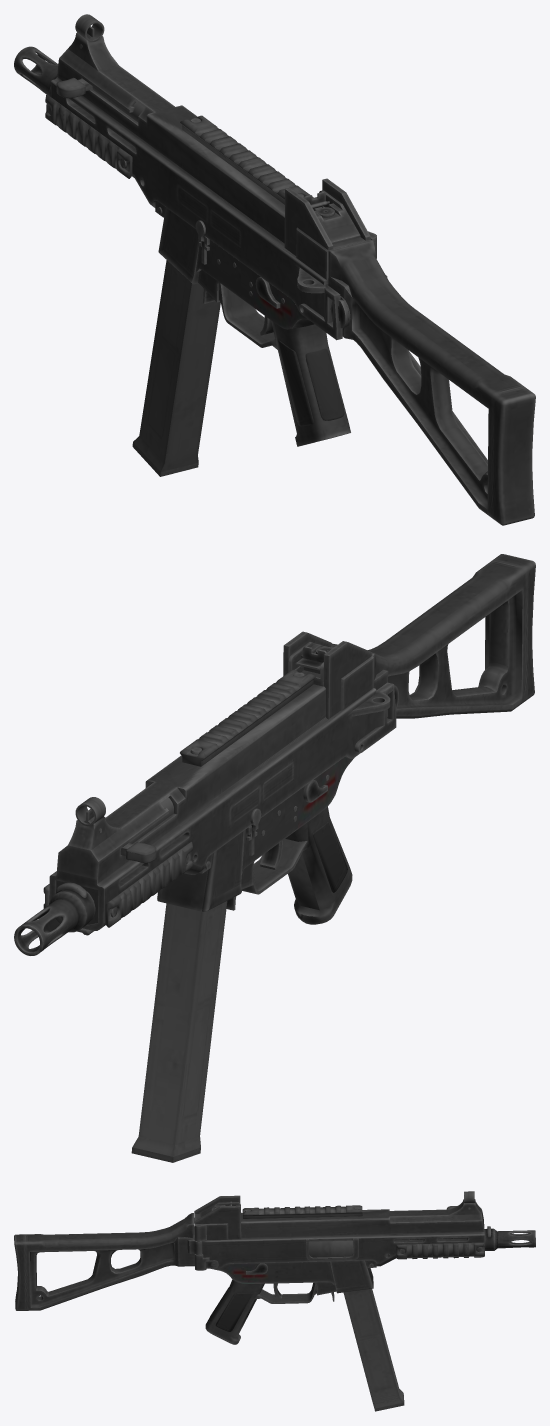
The model's file is ump.glb.
3 renders of one model, top to bottom at view 1: azimuth 30°, elevation 25°; view 2: azimuth 150°, elevation 25°; view 3: azimuth 270°, elevation 25°, orthographic. The views are drawn at different scales.
Parts seen in each view (by area): view 1: body, mag; view 2: body, mag; view 3: body, mag.
Part boxes in pixels (<box>): body: <box>14,14,535,525</box>; mag: <box>132,207,220,476</box>; body: <box>14,554,535,955</box>; mag: <box>131,849,241,1162</box>; body: <box>14,1191,535,1344</box>; mag: <box>333,1260,404,1411</box>.
Size of the model in its own units: 0.0706 by 0.3119 by 0.69.
2 materials, 2 textured.
